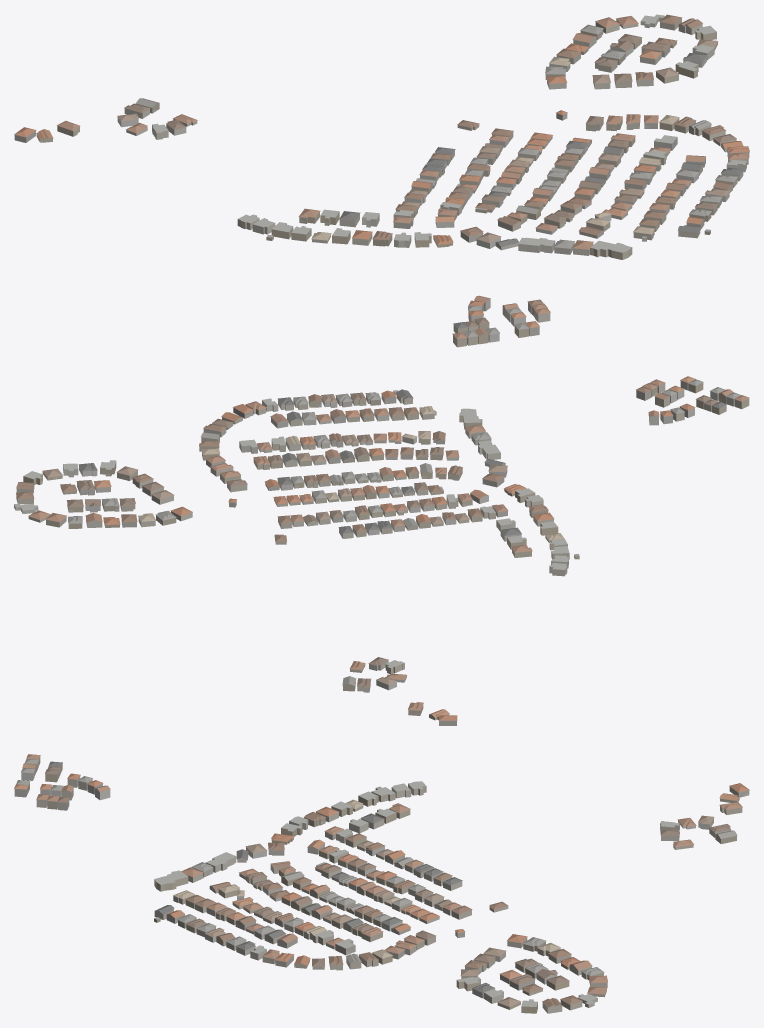
The model's file is buildings_r7_c5.glb.
3 renders of one model, top to bottom at view 1: azimuth 30°, elevation 25°; view 2: azimuth 150°, elevation 25°; view 3: azimuth 270°, elevation 25°, orthographic. The views are drawn at different scales.
Parts seen in each view (by area): view 1: buildings_r7_c5; view 2: buildings_r7_c5; view 3: buildings_r7_c5.
Boxes of the visible parts, <box> form: buildings_r7_c5: <box>14,14,749,347</box>; buildings_r7_c5: <box>14,376,749,725</box>; buildings_r7_c5: <box>14,754,749,1013</box>.
Bounding box in the file's own units: 691 × 77.13 × 806.
